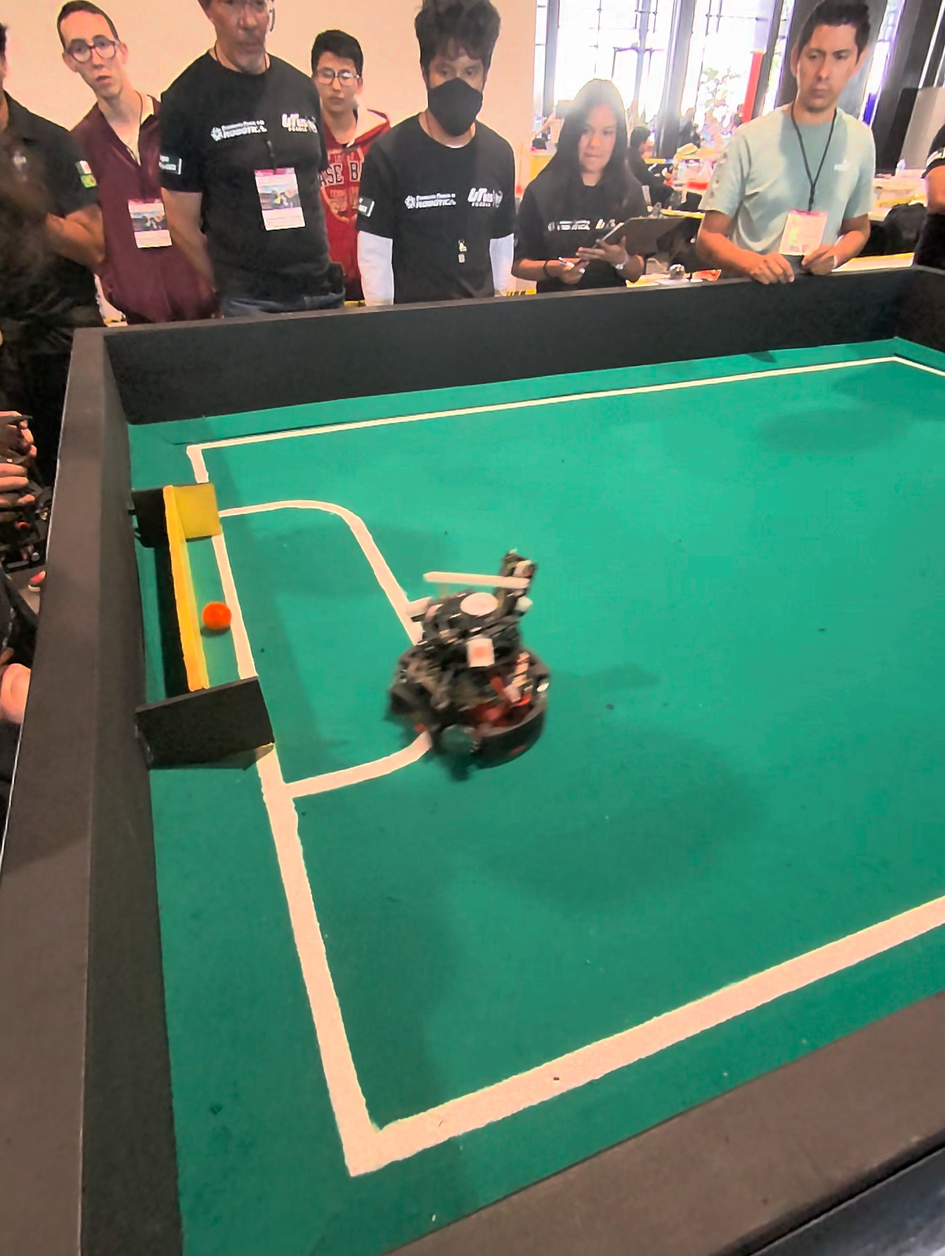Robot: (387, 546, 569, 775)
